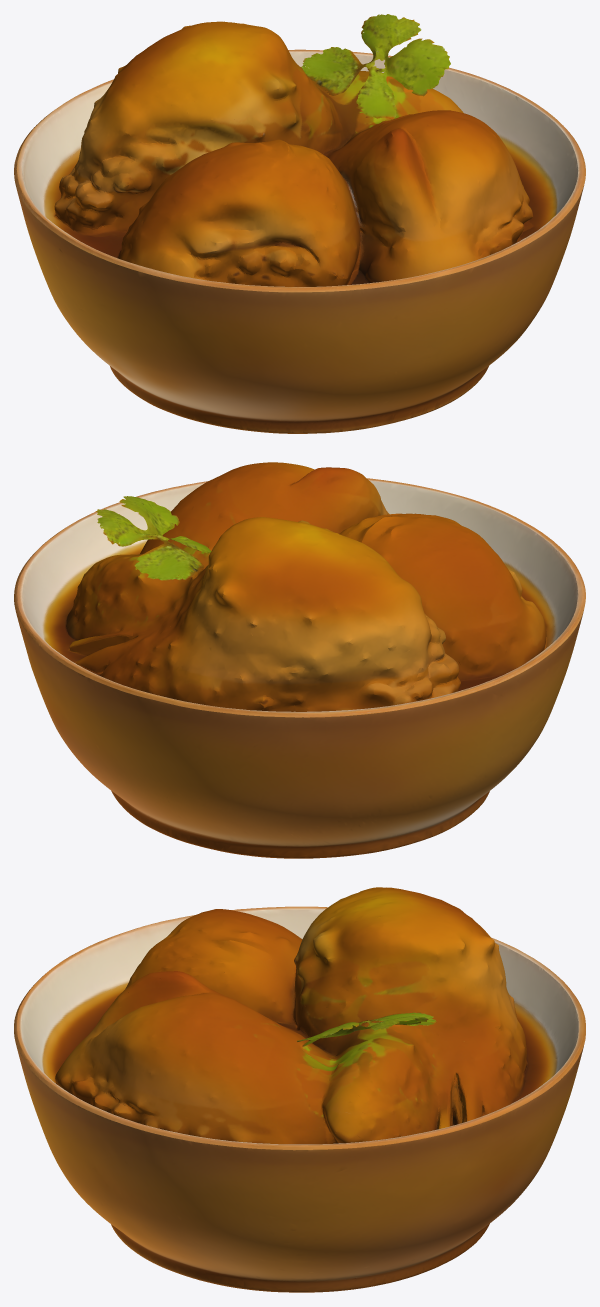
File: poached-chicken-1822.glb
3 renders of one model, top to bottom at view 1: azimuth 30°, elevation 25°; view 2: azimuth 150°, elevation 25°; view 3: azimuth 270°, elevation 25°, orthographic.
Visible parts, largest first — view 1: model; view 2: model; view 3: model.
Boxes of the visible parts, x1=… form: model: x1=14, y1=14, x2=585, y2=433; model: x1=14, y1=462, x2=585, y2=858; model: x1=14, y1=887, x2=585, y2=1292.
Bounding box in the file's own units: 1.9 × 1.07 × 1.9.
Materials: 1 (1 with a texture image).
